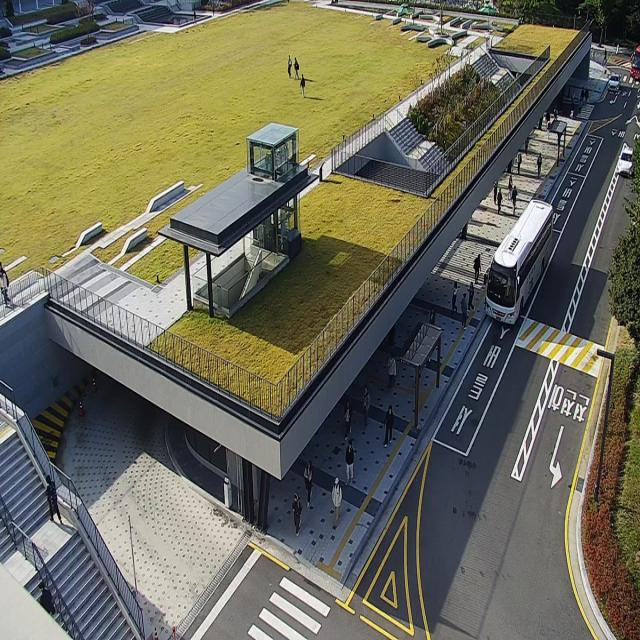queue: (417, 332, 443, 431)
